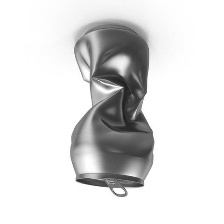can: (63, 20, 159, 199)
